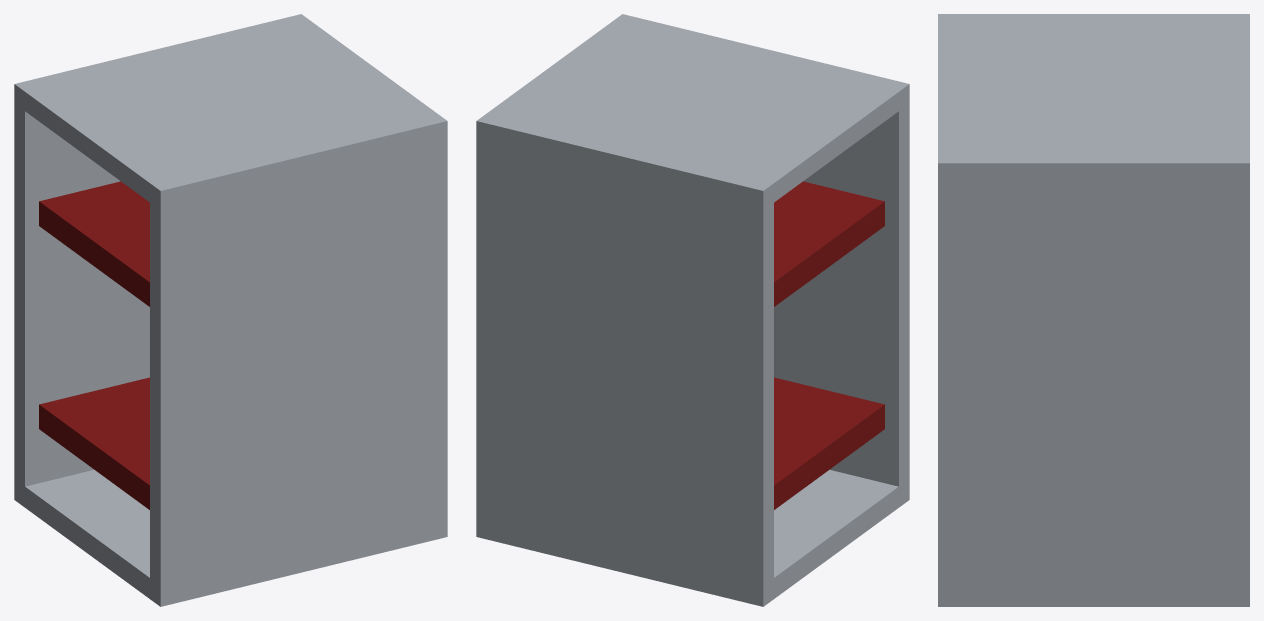
The model's file is L128_REAR_USB4_B.fbx.
3 views of the same model, side by side, from view 1: azimuth 30°, elevation 25°; view 2: azimuth 150°, elevation 25°; view 3: azimuth 270°, elevation 25° (orthographic). The views are drawn at different scales.
Visible parts, largest first — view 1: REAR_USB4_B__Steel, REAR_USB4_B__Red; view 2: REAR_USB4_B__Steel, REAR_USB4_B__Red; view 3: REAR_USB4_B__Steel.
Boxes of the visible parts, left/top/right/bottom form: REAR_USB4_B__Steel: left=14, top=14, right=447, bottom=606; REAR_USB4_B__Red: left=39, top=181, right=149, bottom=509; REAR_USB4_B__Steel: left=476, top=14, right=909, bottom=606; REAR_USB4_B__Red: left=774, top=181, right=884, bottom=509; REAR_USB4_B__Steel: left=938, top=14, right=1249, bottom=606.
Bounding box in the file's own units: 17 × 23.55 × 15.
